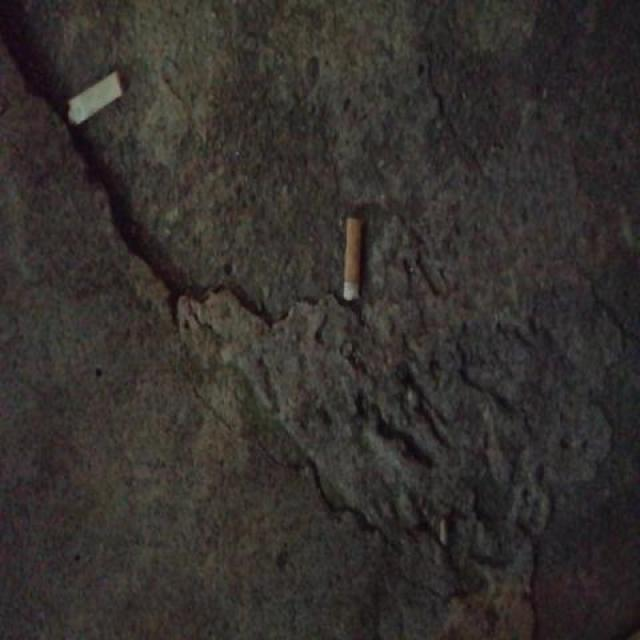non-organic waste: (64, 63, 128, 134), (337, 210, 371, 306)
